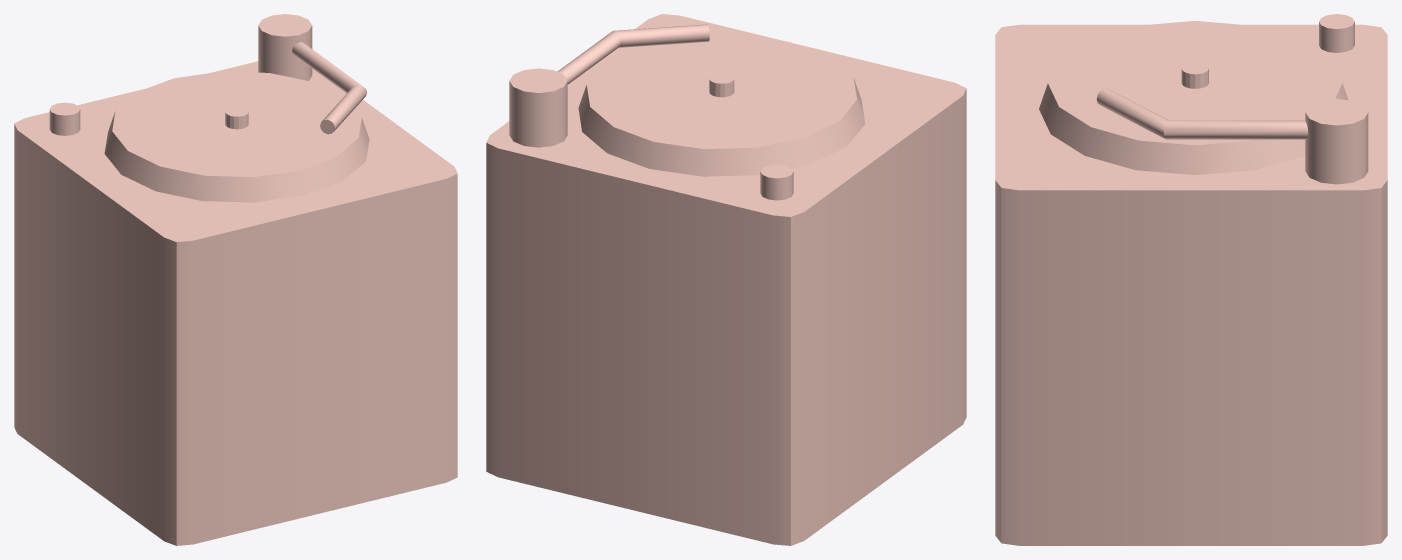
File: disc.glb
3 views of the same model, side by side, from view 1: azimuth 30°, elevation 25°; view 2: azimuth 150°, elevation 25°; view 3: azimuth 270°, elevation 25° (orthographic). The views are drawn at different scales.
Visible parts, largest first — view 1: disc; view 2: disc; view 3: disc.
Part boxes in pixels (<box>): disc: <box>14,14,457,545</box>; disc: <box>486,14,966,545</box>; disc: <box>995,14,1387,545</box>.
Size of the model in its own units: 0.9 by 1.05 by 0.9.
